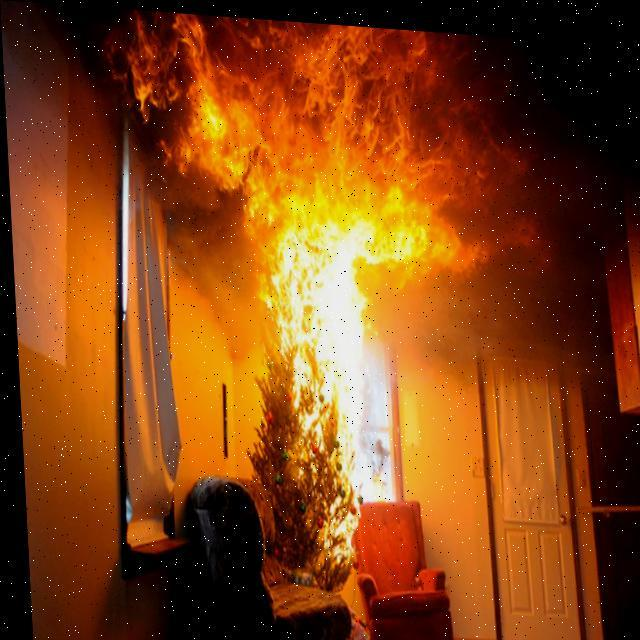Fire: (117, 13, 480, 544)
